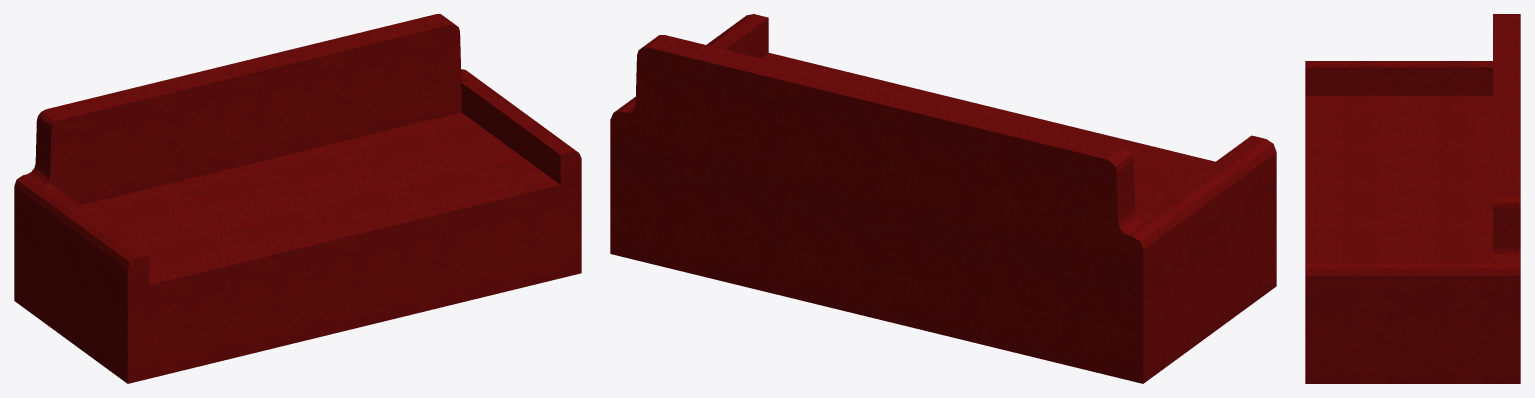
Rendered from sofa.fbx.
The picture shows the model from 3 angles, left to right: view 1: azimuth 30°, elevation 25°; view 2: azimuth 150°, elevation 25°; view 3: azimuth 270°, elevation 25°; orthographic projection. The views are drawn at different scales.
Parts seen in each view (by area): view 1: sofa; view 2: sofa; view 3: sofa.
Part boxes in pixels (x1,y1,x2,y2): sofa: (14, 14, 581, 383); sofa: (610, 14, 1276, 383); sofa: (1305, 14, 1520, 383).
Size of the model in its own units: 176 by 68.2 by 76.46.
